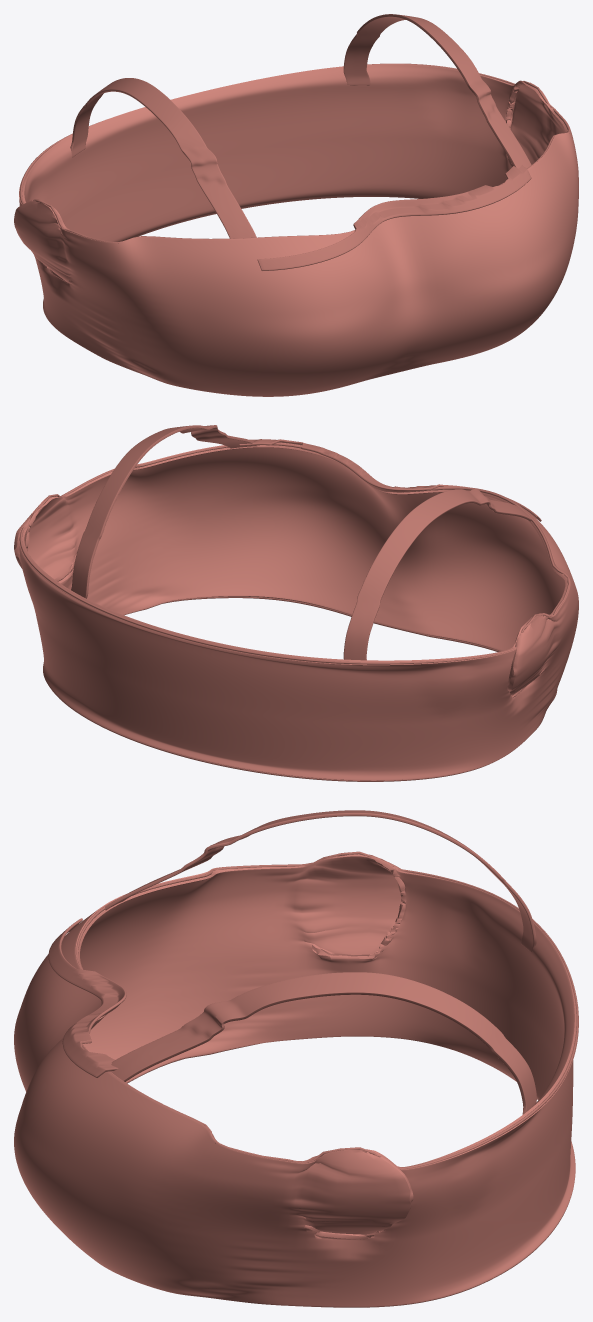
File: Feminine-strappy-top.glb
3 renders of one model, top to bottom at view 1: azimuth 30°, elevation 25°; view 2: azimuth 150°, elevation 25°; view 3: azimuth 270°, elevation 25°, orthographic. The views are drawn at different scales.
Visible parts, largest first — view 1: Clothing / strappy body, Clothing / Strappy seated shoulder strap -1, Crop / seated cross strap, Clothing / Strappy seated shoulder strap 1, Top / seated binding191 1 export; view 2: Clothing / strappy body, Clothing / Strappy seated shoulder strap -1, Clothing / Strappy seated shoulder strap 1, Top / seated binding191 1 export, Top / seated binding191 0 export, Crop / seated cross strap; view 3: Clothing / strappy body, Clothing / Strappy seated shoulder strap 1, Crop / seated cross strap, Clothing / Strappy seated shoulder strap -1, Top / seated binding191 1 export, Top / seated binding191 0 export.
Boxes of the visible parts, x1=… form: Clothing / strappy body: x1=14, y1=64, x2=578, y2=396; Clothing / Strappy seated shoulder strap -1: x1=70, y1=78, x2=256, y2=238; Crop / seated cross strap: x1=257, y1=165, x2=531, y2=270; Clothing / Strappy seated shoulder strap 1: x1=343, y1=14, x2=531, y2=168; Top / seated binding191 1 export: x1=19, y1=63, x2=569, y2=243; Clothing / strappy body: x1=14, y1=442, x2=578, y2=780; Clothing / Strappy seated shoulder strap -1: x1=343, y1=488, x2=531, y2=660; Clothing / Strappy seated shoulder strap 1: x1=71, y1=425, x2=257, y2=598; Top / seated binding191 1 export: x1=19, y1=443, x2=569, y2=664; Top / seated binding191 0 export: x1=52, y1=596, x2=499, y2=781; Crop / seated cross strap: x1=239, y1=439, x2=541, y2=521; Clothing / strappy body: x1=14, y1=854, x2=578, y2=1307; Clothing / Strappy seated shoulder strap 1: x1=110, y1=972, x2=536, y2=1114; Crop / seated cross strap: x1=48, y1=918, x2=126, y2=1077; Clothing / Strappy seated shoulder strap -1: x1=105, y1=810, x2=536, y2=952; Top / seated binding191 1 export: x1=76, y1=851, x2=578, y2=1169; Top / seated binding191 0 export: x1=126, y1=1041, x2=573, y2=1307.
Size of the model in its own units: 0.6455 by 0.2883 by 0.5022.
